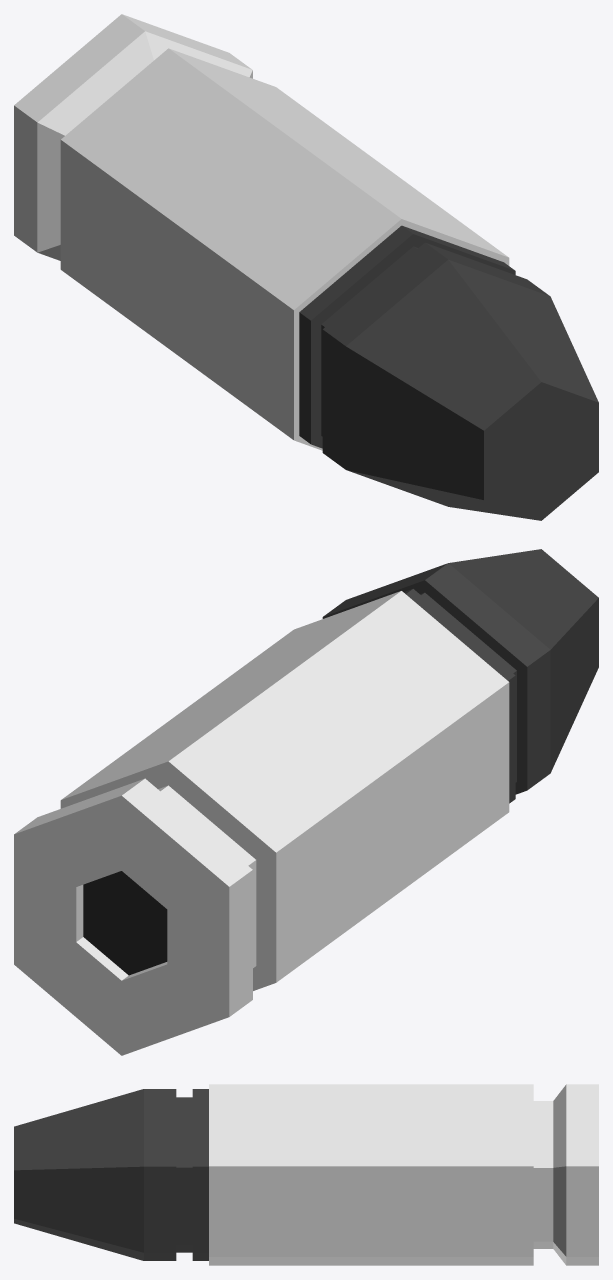
Rendered from Bullet_SMG_B.fbx.
3 views of the same model, one above another, from view 1: azimuth 30°, elevation 25°; view 2: azimuth 150°, elevation 25°; view 3: azimuth 270°, elevation 25° (orthographic). The views are drawn at different scales.
Visible parts, largest first — view 1: Bullet_SMG_B, Bullet_SMG_B_Part; view 2: Bullet_SMG_B, Bullet_SMG_B_Part; view 3: Bullet_SMG_B, Bullet_SMG_B_Part.
Boxes of the visible parts, x1=… form: Bullet_SMG_B: x1=14, y1=14, x2=509, y2=450; Bullet_SMG_B_Part: x1=299, y1=225, x2=598, y2=520; Bullet_SMG_B: x1=14, y1=591, x2=509, y2=1055; Bullet_SMG_B_Part: x1=322, y1=549, x2=598, y2=803; Bullet_SMG_B: x1=209, y1=1084, x2=598, y2=1265; Bullet_SMG_B_Part: x1=14, y1=1089, x2=208, y2=1260.
Size of the model in its own units: 0.0133 by 0.0154 by 0.045.
